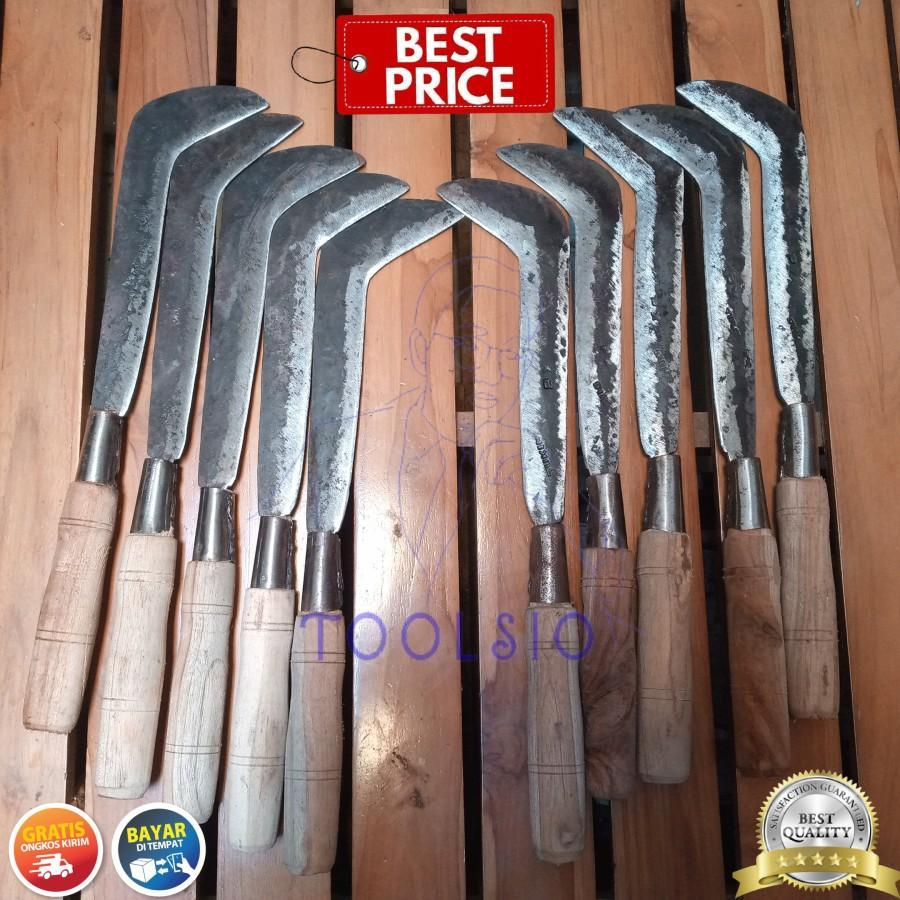foice: (28, 99, 258, 712), (230, 171, 407, 852), (617, 106, 797, 762), (438, 173, 594, 867), (676, 82, 843, 728), (133, 107, 290, 767), (558, 106, 699, 786), (330, 194, 471, 868), (503, 144, 644, 807)
